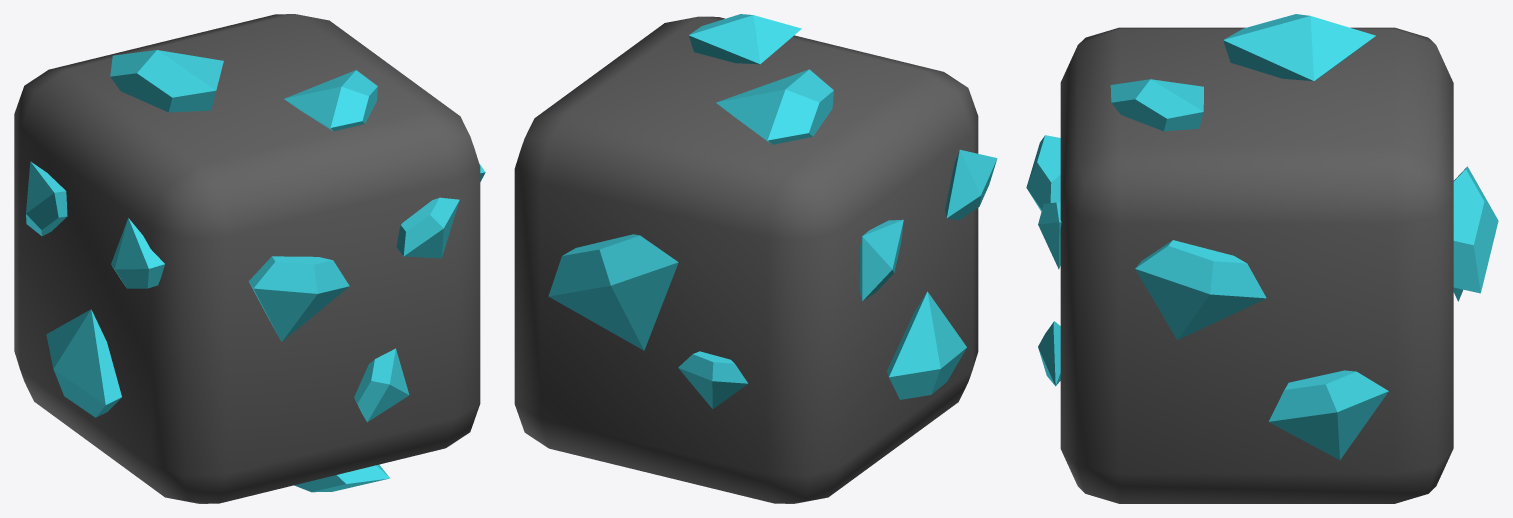
Rendered from SM_Diamond.fbx.
3 views of the same model, side by side, from view 1: azimuth 30°, elevation 25°; view 2: azimuth 150°, elevation 25°; view 3: azimuth 270°, elevation 25° (orthographic). The views are drawn at different scales.
Visible parts, largest first — view 1: Diamond.015; view 2: Diamond.015; view 3: Diamond.015.
Boxes of the visible parts, x1,y1,x2,y2 form: Diamond.015: (14,14,485,503); Diamond.015: (514,14,997,503); Diamond.015: (1026,14,1498,503).
Bounding box in the file's own units: 242 × 247 × 243.
